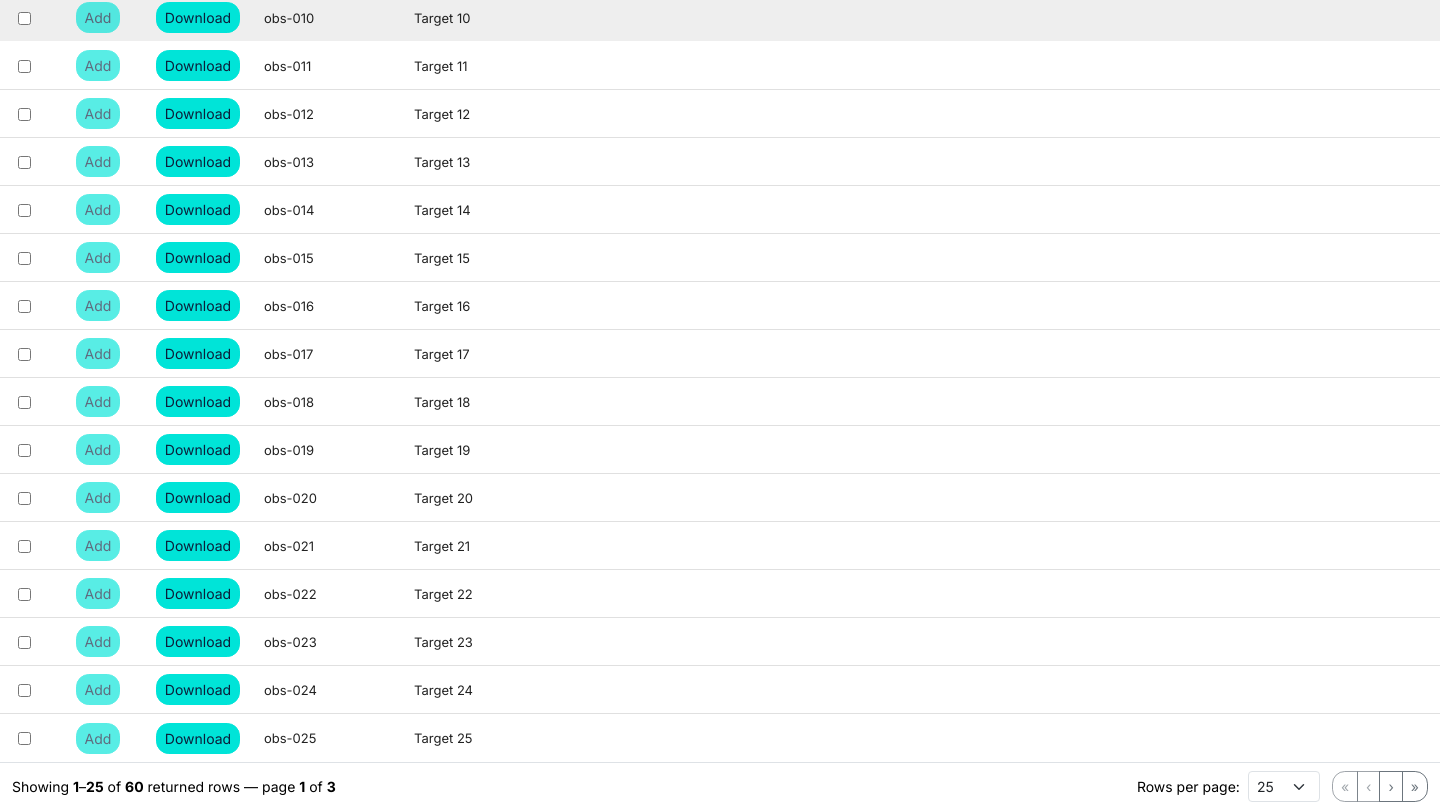
it: ResultsTable pagination and selection › changes the number of rows displayed per page
The width and height of the screenshot is (1440, 810).
(page scrolled)
Select "50" in the dropdown labelled "Rows per page:" at {"x": 1284, "y": 786}, box [1248, 771, 1320, 802]
(page scrolled)
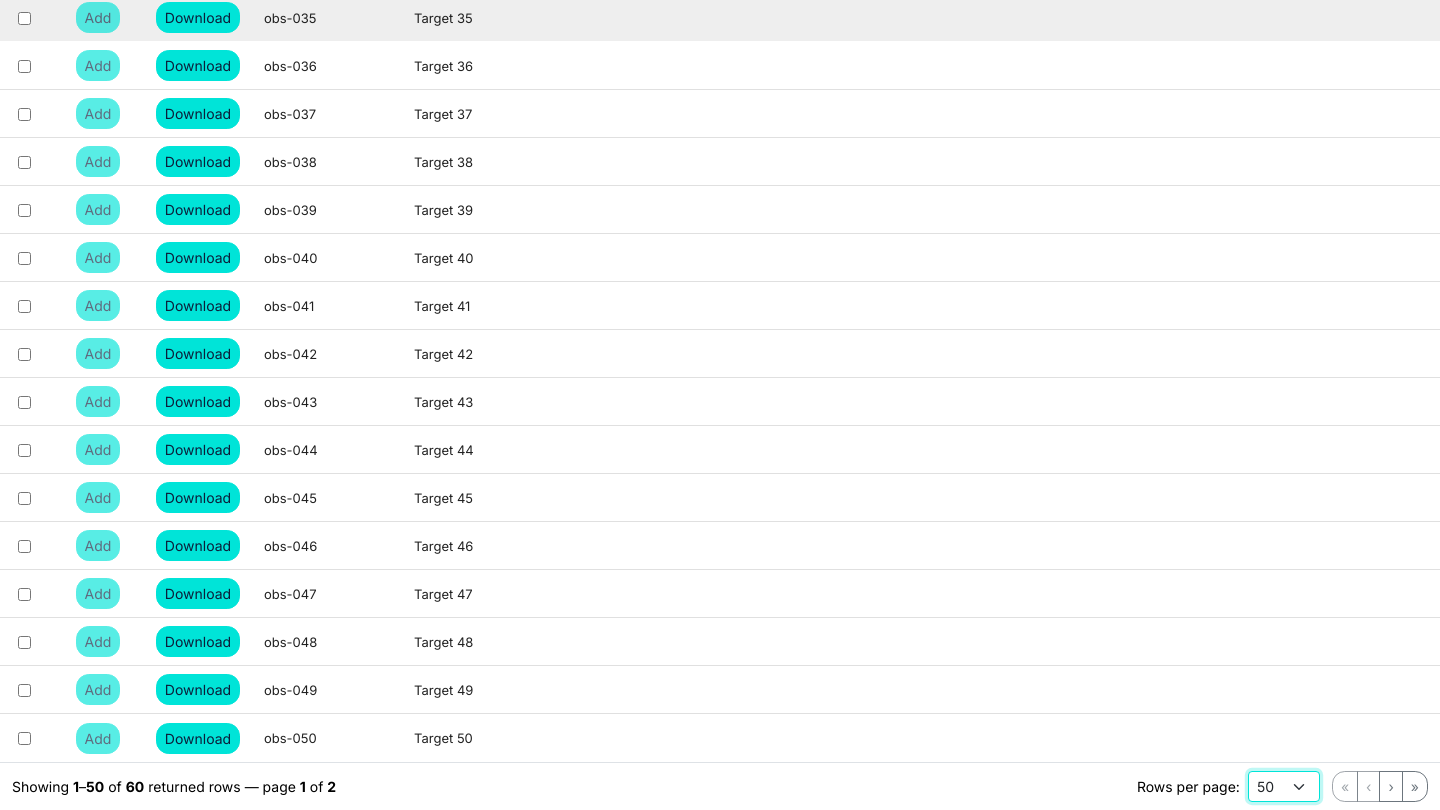
Expected: the text "obs-050" is shown, [264, 730, 317, 746]
